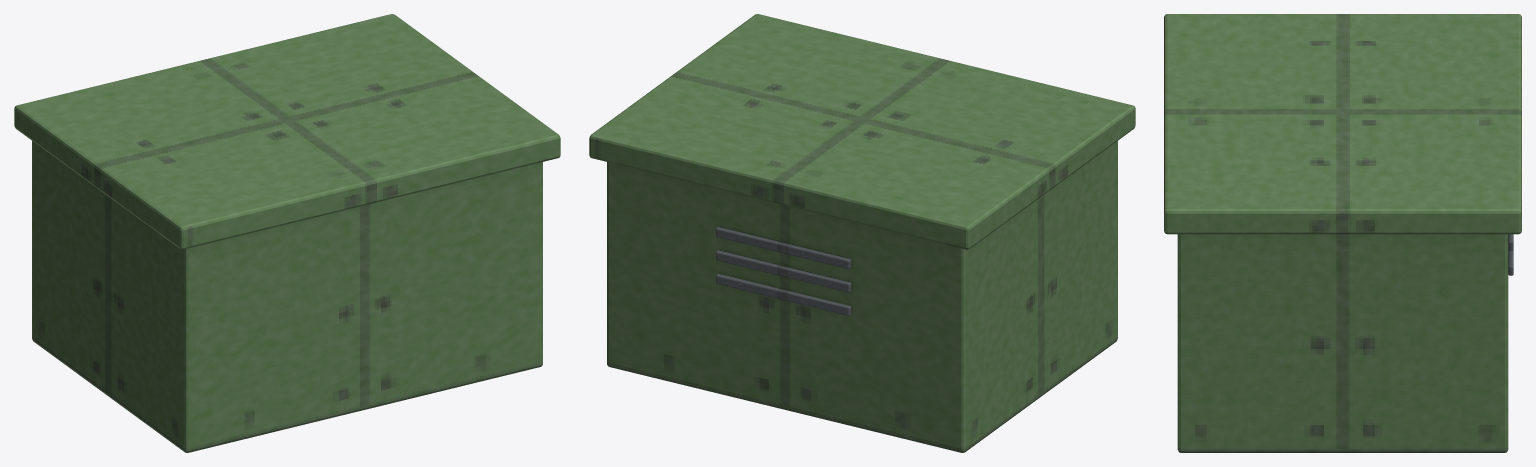
File: base_compost_bin.glb
3 renders of one model, left to right at view 1: azimuth 30°, elevation 25°; view 2: azimuth 150°, elevation 25°; view 3: azimuth 270°, elevation 25°, orthographic. The views are drawn at different scales.
Visible parts, largest first — view 1: base_compost_bin; view 2: base_compost_bin; view 3: base_compost_bin.
Part boxes in pixels (<box>): base_compost_bin: <box>14,14,560,452</box>; base_compost_bin: <box>589,14,1135,452</box>; base_compost_bin: <box>1164,14,1521,452</box>.
Bounding box in the file's own units: 1.7 × 1 × 1.3.
2 materials, 2 textured.
